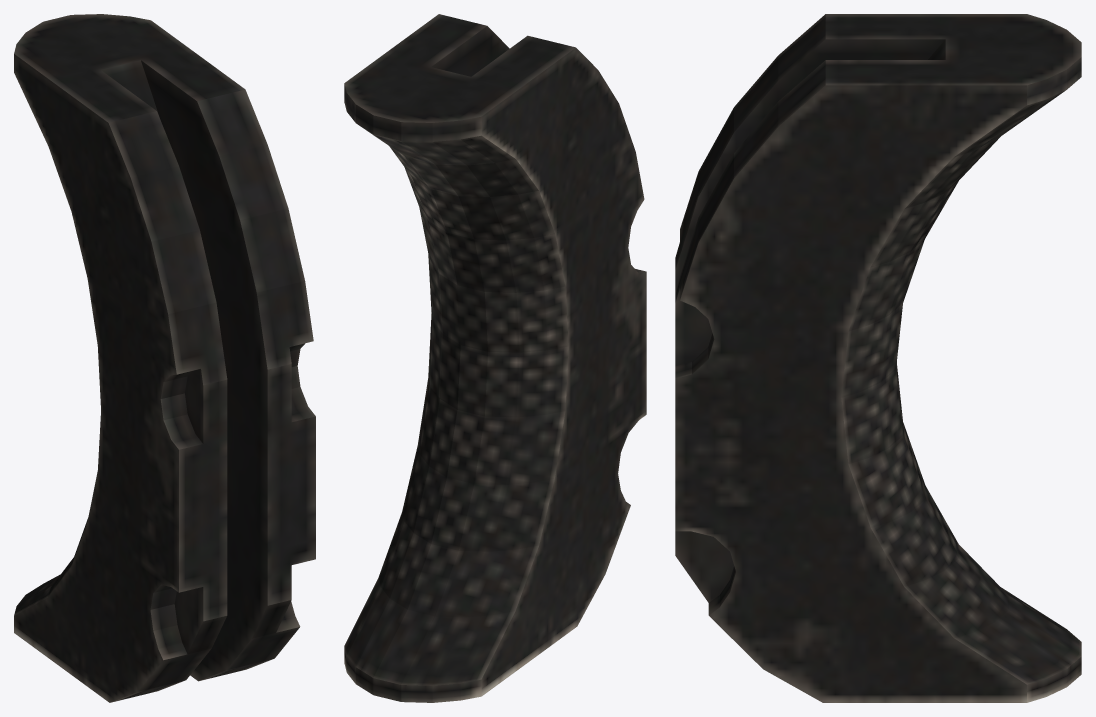
The picture shows the model from 3 angles, left to right: view 1: azimuth 30°, elevation 25°; view 2: azimuth 150°, elevation 25°; view 3: azimuth 270°, elevation 25°; orthographic projection. The views are drawn at different scales.
Visible parts, largest first — view 1: TW_5e81c6a2ac2bb513793cdc7f_PZ_Import; view 2: TW_5e81c6a2ac2bb513793cdc7f_PZ_Import; view 3: TW_5e81c6a2ac2bb513793cdc7f_PZ_Import.
Boxes of the visible parts, <box> form: TW_5e81c6a2ac2bb513793cdc7f_PZ_Import: <box>14,14,315,702</box>; TW_5e81c6a2ac2bb513793cdc7f_PZ_Import: <box>344,14,646,702</box>; TW_5e81c6a2ac2bb513793cdc7f_PZ_Import: <box>675,14,1081,702</box>.
Size of the model in its own units: 0.00332 by 0.00799 by 0.0134.
1 material, 1 textured.
